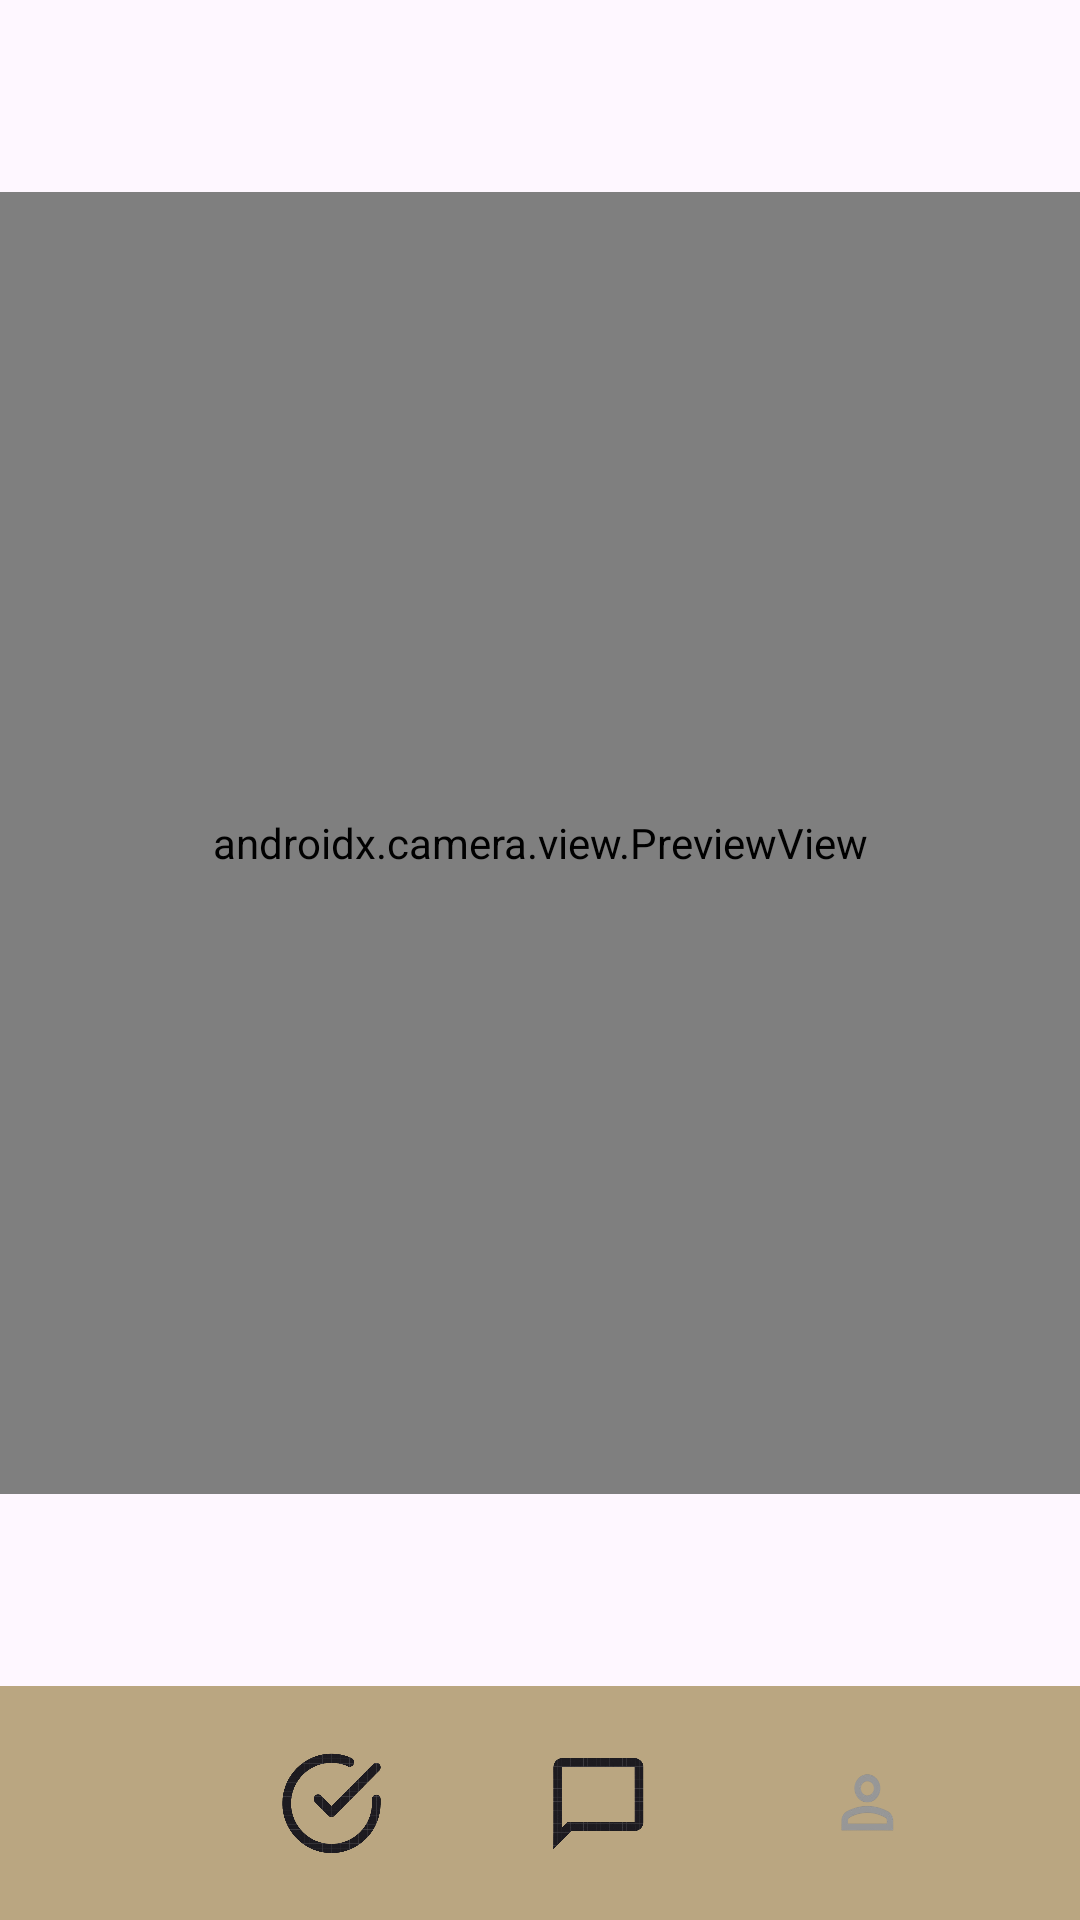

Where to tap for icons on this 1080 × 1920 app screen, as [x,y]:
chat: [598,1803]
check: [331,1803]
mypage: [867,1802]
